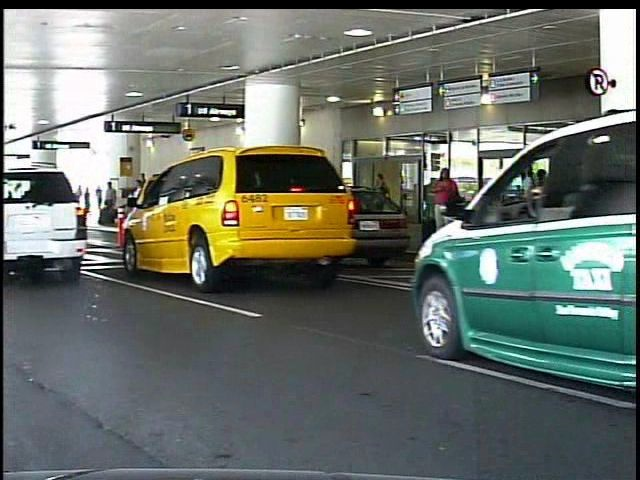person: (435, 166, 464, 227), (375, 170, 396, 232), (105, 179, 122, 229), (85, 186, 96, 209)
